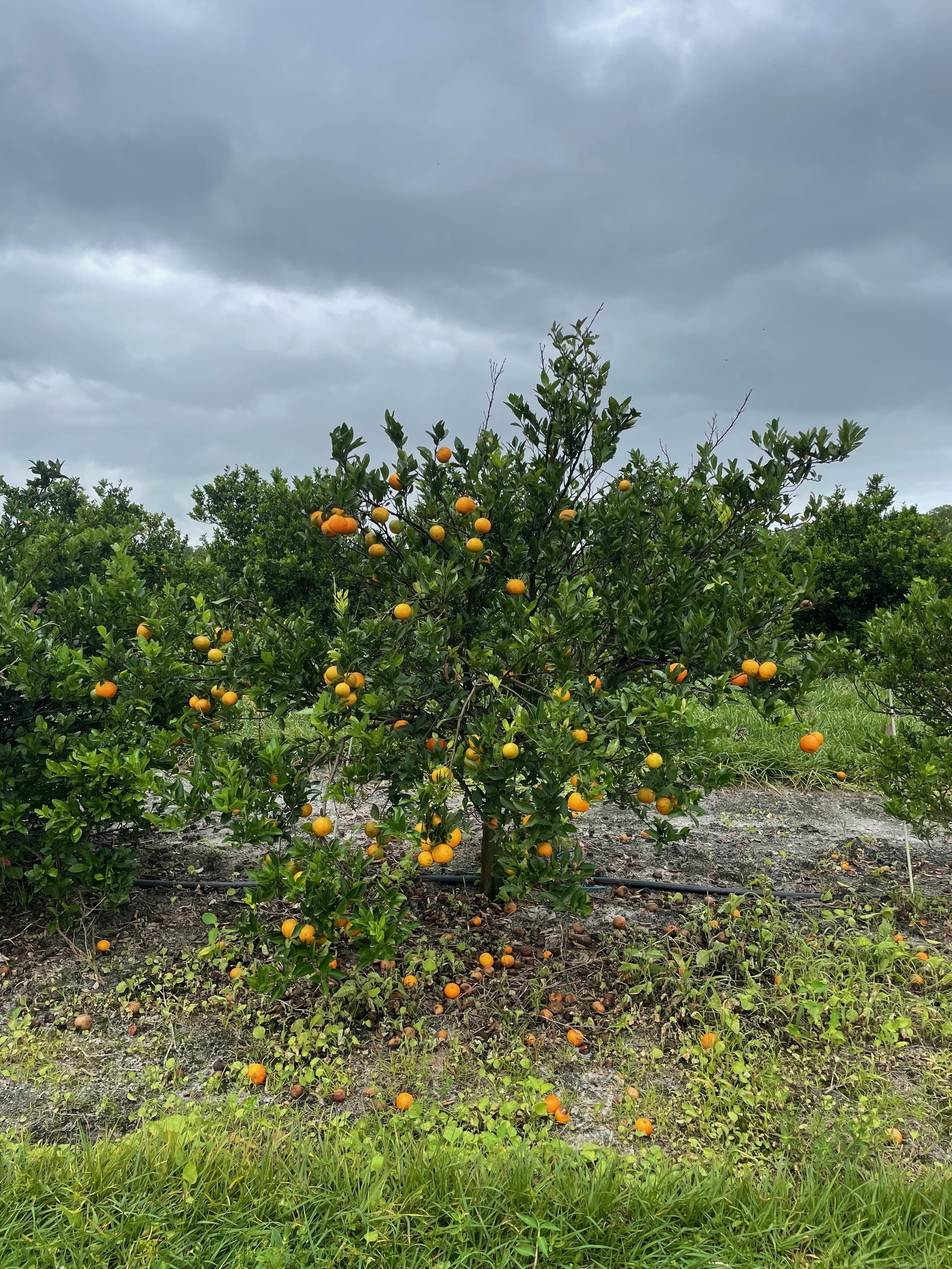fruit_on_ground: (665, 659, 691, 685), (93, 677, 119, 700), (797, 732, 821, 755), (279, 917, 302, 940), (430, 765, 454, 787), (557, 505, 581, 527), (386, 470, 409, 492), (135, 619, 158, 641), (567, 790, 590, 812), (311, 815, 334, 837), (758, 659, 780, 682), (330, 909, 354, 930), (453, 495, 477, 516), (739, 656, 762, 677), (308, 508, 331, 529), (211, 625, 235, 645), (309, 927, 330, 949), (343, 917, 365, 938), (654, 795, 675, 817), (582, 673, 603, 695), (191, 634, 213, 655), (433, 444, 455, 465), (392, 600, 414, 621), (390, 716, 413, 736), (505, 576, 528, 596), (324, 503, 345, 524), (318, 518, 339, 539), (443, 825, 464, 846), (667, 793, 689, 813), (266, 769, 288, 789), (297, 922, 317, 944), (322, 663, 344, 683), (327, 514, 349, 534), (425, 734, 448, 753), (365, 841, 386, 861), (644, 750, 665, 770), (427, 521, 447, 542), (500, 740, 521, 760), (432, 843, 453, 863), (728, 671, 750, 690), (551, 685, 573, 704), (341, 515, 361, 535), (362, 820, 382, 840), (370, 504, 390, 524), (290, 869, 311, 888), (346, 670, 367, 689), (586, 779, 606, 798), (635, 785, 655, 804), (569, 726, 589, 745), (464, 535, 484, 554), (334, 680, 353, 699), (367, 542, 387, 560), (472, 515, 492, 533), (462, 752, 482, 770), (386, 517, 405, 535), (206, 646, 225, 664), (193, 697, 211, 715), (463, 745, 481, 763), (221, 688, 239, 706), (361, 530, 380, 547), (208, 682, 227, 699), (497, 667, 516, 684), (186, 717, 204, 734), (343, 691, 361, 708), (616, 476, 634, 493), (296, 801, 313, 819), (416, 850, 434, 867), (536, 841, 553, 859), (807, 730, 825, 747), (263, 851, 280, 869), (428, 810, 445, 827), (519, 811, 537, 827), (324, 955, 341, 971), (209, 716, 225, 733), (798, 597, 814, 614), (483, 814, 500, 830), (186, 693, 203, 709), (375, 830, 392, 846), (418, 834, 434, 850), (467, 732, 483, 748), (476, 552, 493, 567), (567, 773, 583, 788), (413, 820, 430, 834), (158, 562, 172, 575), (503, 865, 516, 878)
fruit_on_tree: (245, 1061, 268, 1085), (882, 1126, 906, 1147), (698, 1030, 721, 1051), (632, 1115, 655, 1136), (73, 1012, 95, 1032), (541, 1093, 562, 1113), (394, 1091, 415, 1111), (566, 1027, 585, 1047), (227, 963, 247, 981), (553, 1107, 571, 1126), (330, 1084, 348, 1103), (378, 957, 399, 973), (443, 981, 461, 999), (622, 1084, 641, 1101), (287, 1082, 306, 1099), (400, 973, 419, 989), (125, 998, 142, 1015), (478, 949, 494, 967), (546, 988, 565, 1003), (95, 936, 112, 952), (908, 971, 924, 987), (538, 1005, 554, 1021), (590, 999, 606, 1015), (522, 1031, 538, 1047), (467, 968, 484, 982), (612, 914, 627, 929), (915, 949, 931, 963), (410, 886, 425, 900), (834, 767, 848, 782), (441, 930, 455, 945), (502, 900, 517, 914), (501, 954, 516, 968), (571, 920, 586, 933), (0, 963, 12, 979), (644, 899, 660, 911), (431, 1002, 444, 1016), (539, 947, 553, 960), (519, 944, 534, 956), (703, 894, 716, 906), (615, 884, 628, 896), (665, 924, 679, 935), (501, 943, 513, 955), (716, 931, 729, 942), (638, 828, 651, 839), (512, 925, 525, 936), (471, 914, 483, 925), (708, 917, 721, 927), (730, 907, 741, 918), (618, 832, 630, 842), (840, 861, 852, 871)
